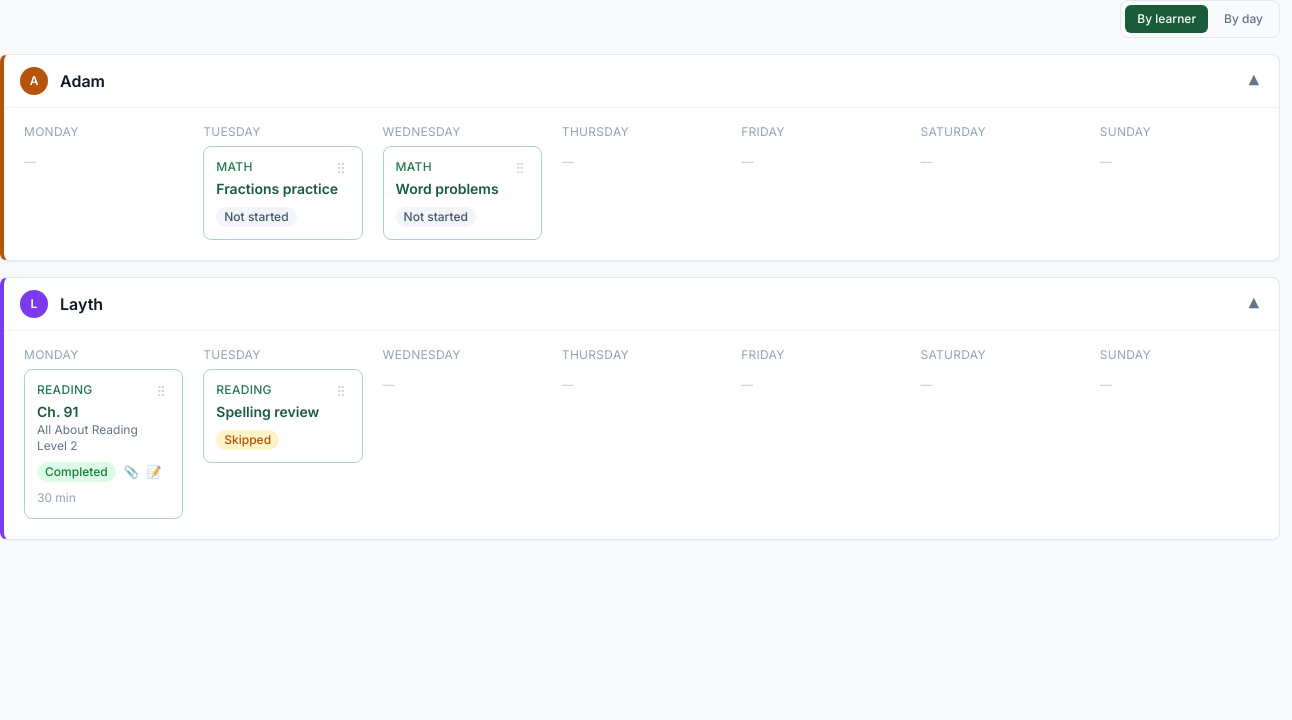
Test case: WeeklyPlanner › collapsing a learner group hides their lessons, and clicking again expands it
expect the text "Fractions practice" is shown: met, box left=216, top=179, right=350, bottom=199
Click the button "A Adam ▼" at (82, 81), box left=4, top=55, right=1279, bottom=107
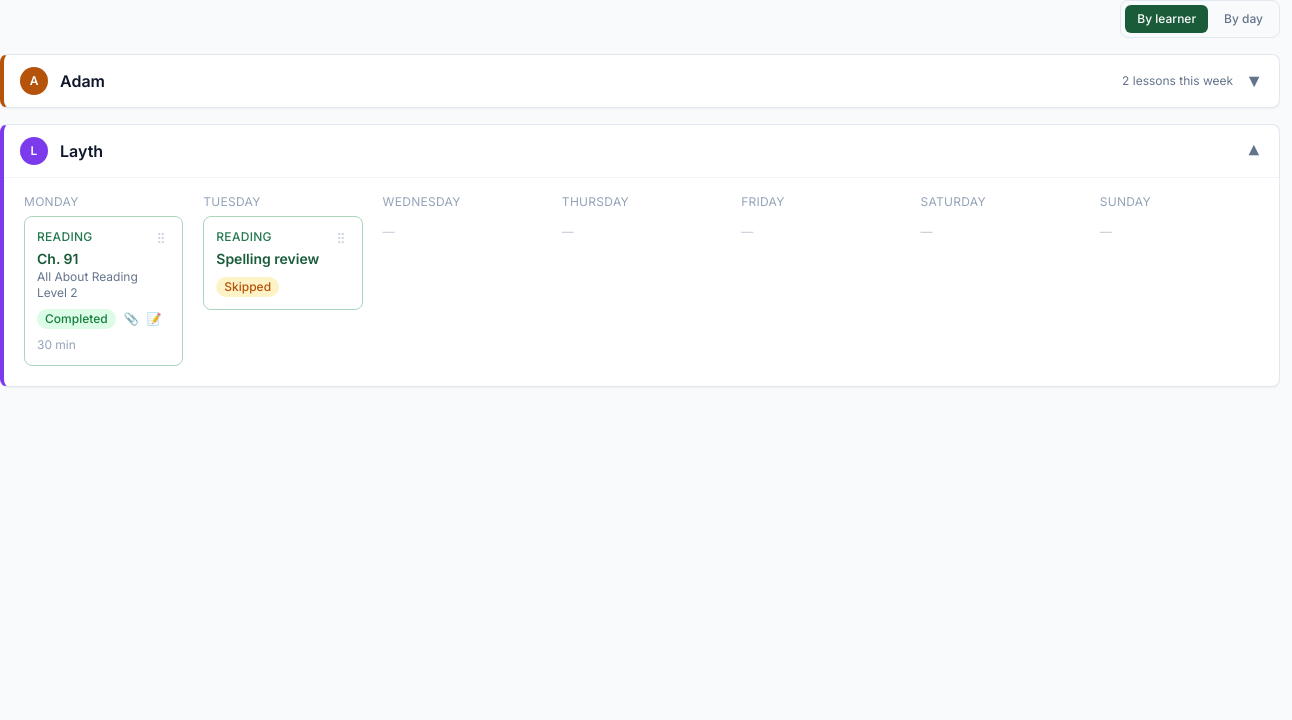
expect the text "Fractions practice" is gone: met
Click the button "A Adam 2 lessons this week ▼" at (82, 81), box left=4, top=55, right=1279, bottom=107
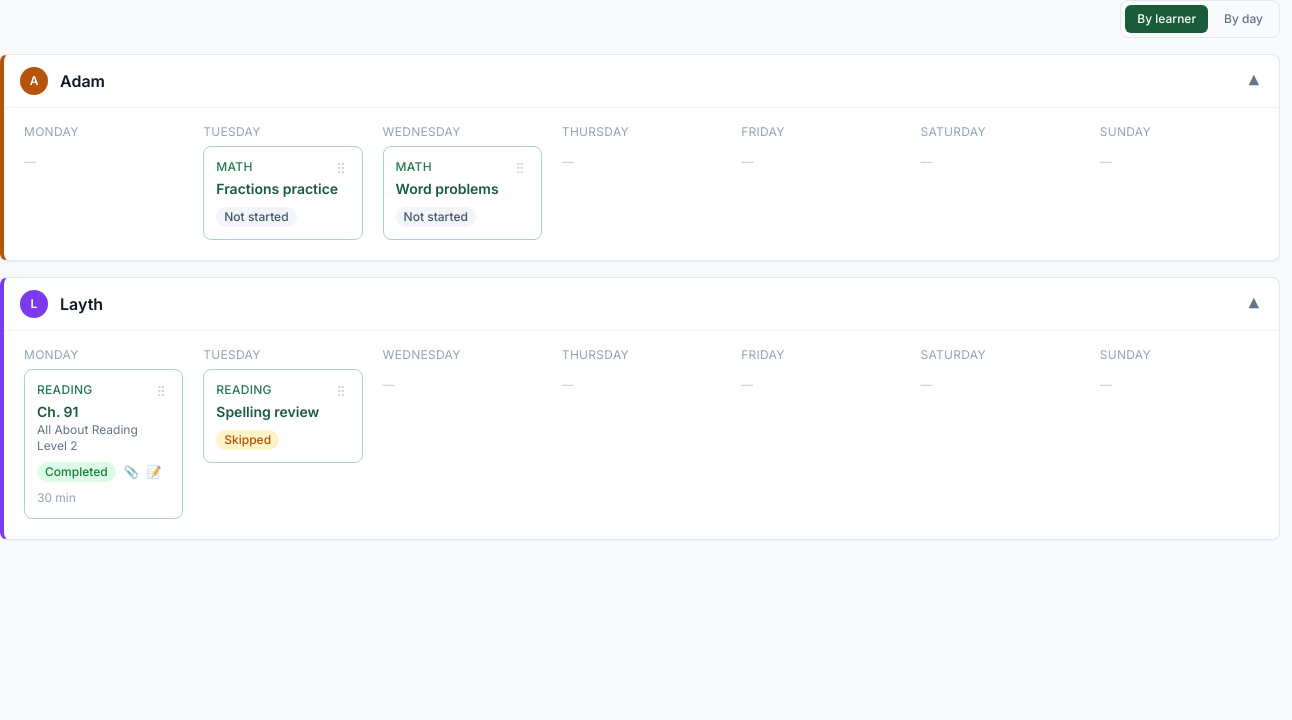
expect the text "Fractions practice" is shown: met, box left=216, top=179, right=350, bottom=199
